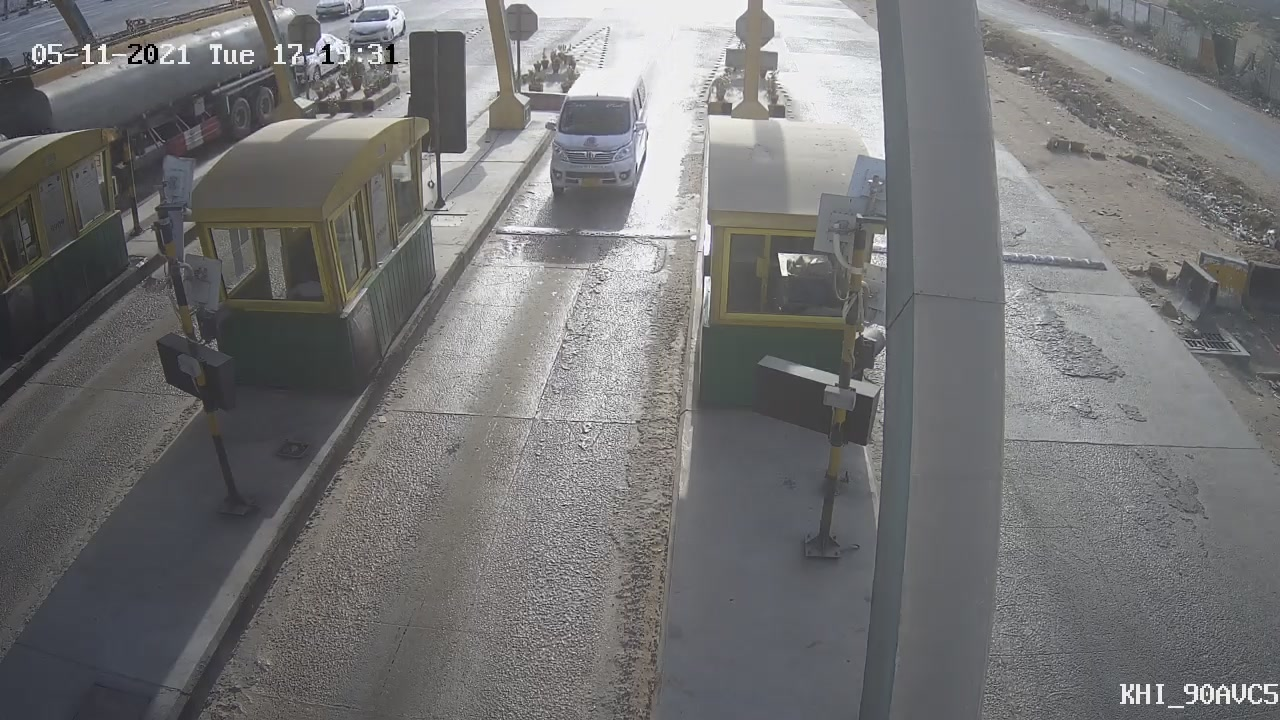F1: (520, 53, 669, 212)
